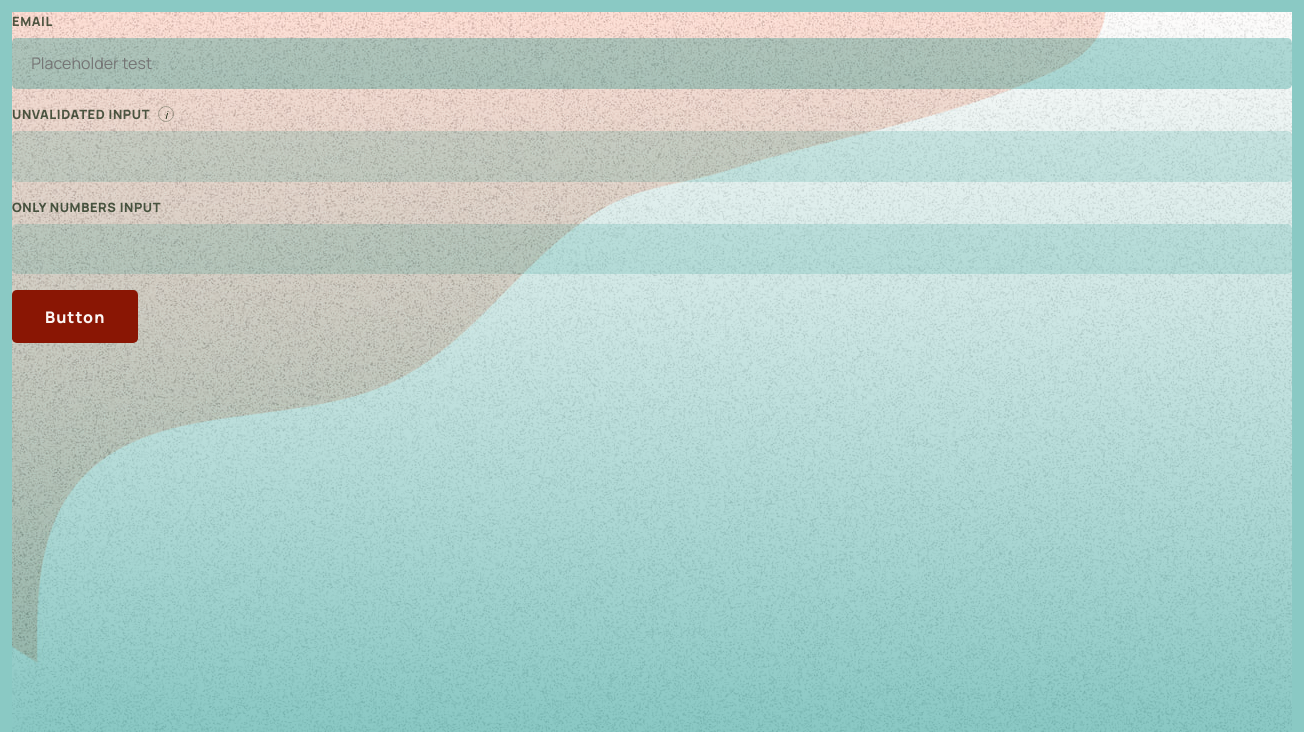
Test: Given a Form component › When instantiated with a form schema and a button 'Submit' › And trying to fill a text input with numbers › Then it should not type the number
Type "aaa2a" into the field labelled "Email".
click(652, 63); type("aaa2a")  # box [12, 38, 1292, 89]
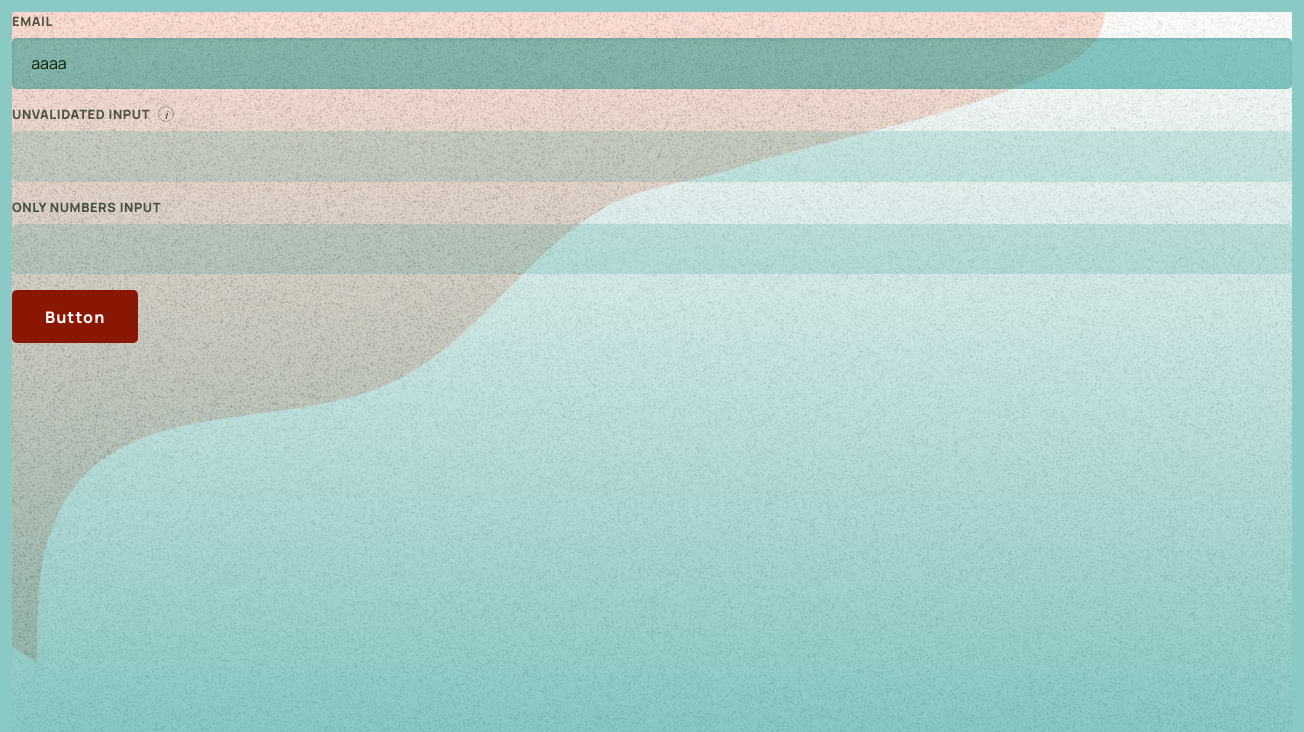
Expected: the field labelled "Email" holds "aaaa", [12, 38, 1292, 89]
